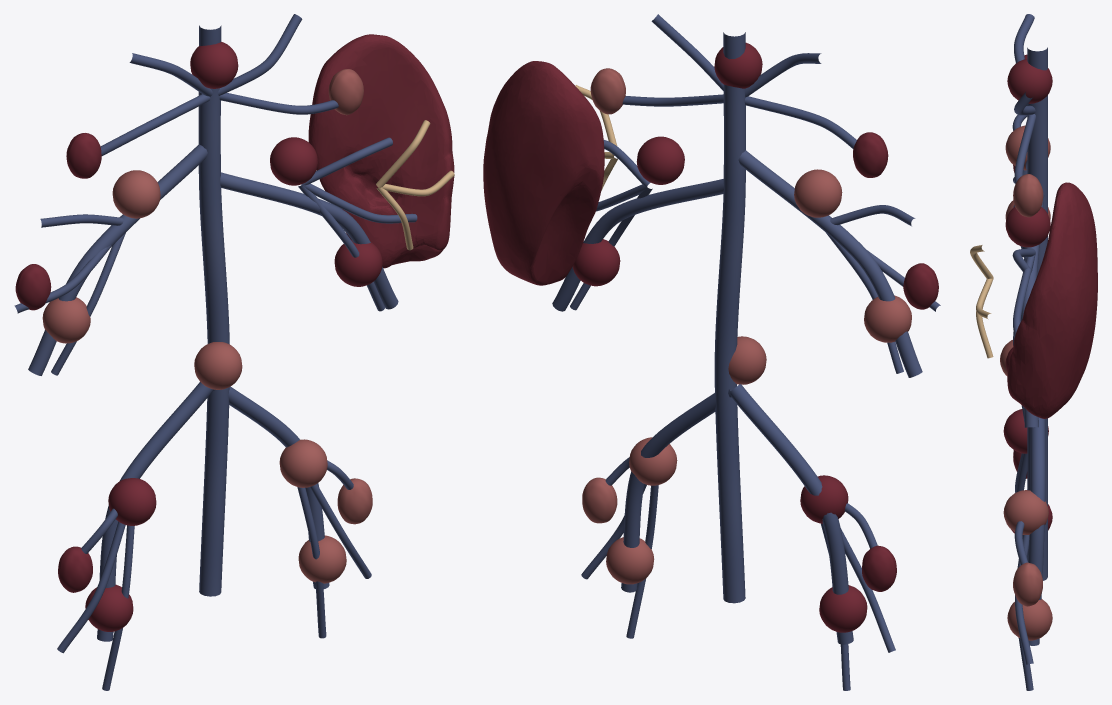
Rendered from lymphatic.1e6cb487.glb.
3 views of the same model, side by side, from view 1: azimuth 30°, elevation 25°; view 2: azimuth 150°, elevation 25°; view 3: azimuth 270°, elevation 25° (orthographic). The views are drawn at different scales.
Parts seen in each view (by area): view 1: Spleen, procedural-lymphatic-surface-1, procedural-lymphatic-surface-3, procedural-lymphatic-surface-4, procedural-lymphatic-surface-2, procedural-lymphatic-surface-5, procedural-lymphatic-surface-23, procedural-lymphatic-surface-24, procedural-lymphatic-surface-27, procedural-lymphatic-surface-29, procedural-lymphatic-surface-28, procedural-lymphatic-surface-22 (+23 smaller); view 2: Spleen, procedural-lymphatic-surface-1, procedural-lymphatic-surface-4, procedural-lymphatic-surface-2, procedural-lymphatic-surface-3, procedural-lymphatic-surface-5, procedural-lymphatic-surface-23, procedural-lymphatic-surface-24, procedural-lymphatic-surface-30, procedural-lymphatic-surface-25, procedural-lymphatic-surface-31, procedural-lymphatic-surface-26 (+17 smaller); view 3: Spleen, procedural-lymphatic-surface-1, procedural-lymphatic-surface-5, procedural-lymphatic-surface-29, procedural-lymphatic-surface-22, procedural-lymphatic-surface-24, procedural-lymphatic-surface-31, procedural-lymphatic-surface-36, procedural-lymphatic-surface-33, procedural-lymphatic-surface-28, procedural-lymphatic-surface-20, procedural-lymphatic-surface-3 (+13 smaller).
Part boxes in pixels (left/top/right/bottom): Spleen: left=308, top=34, right=454, bottom=268; procedural-lymphatic-surface-1: left=198, top=25, right=229, bottom=596; procedural-lymphatic-surface-3: left=220, top=172, right=398, bottom=309; procedural-lymphatic-surface-4: left=97, top=382, right=213, bottom=641; procedural-lymphatic-surface-2: left=28, top=144, right=207, bottom=375; procedural-lymphatic-surface-5: left=213, top=386, right=329, bottom=588; procedural-lymphatic-surface-23: left=112, top=170, right=160, bottom=218; procedural-lymphatic-surface-24: left=270, top=137, right=317, bottom=185; procedural-lymphatic-surface-27: left=194, top=342, right=242, bottom=389; procedural-lymphatic-surface-29: left=279, top=439, right=327, bottom=487; procedural-lymphatic-surface-28: left=108, top=478, right=156, bottom=525; procedural-lymphatic-surface-22: left=190, top=42, right=238, bottom=88; Spleen: left=483, top=61, right=604, bottom=285; procedural-lymphatic-surface-1: left=714, top=32, right=745, bottom=603; procedural-lymphatic-surface-4: left=730, top=384, right=853, bottom=644; procedural-lymphatic-surface-2: left=738, top=150, right=922, bottom=377; procedural-lymphatic-surface-3: left=552, top=179, right=723, bottom=311; procedural-lymphatic-surface-5: left=621, top=389, right=731, bottom=592; procedural-lymphatic-surface-23: left=794, top=169, right=842, bottom=217; procedural-lymphatic-surface-24: left=636, top=136, right=684, bottom=184; procedural-lymphatic-surface-30: left=819, top=585, right=867, bottom=632; procedural-lymphatic-surface-25: left=864, top=295, right=911, bottom=342; procedural-lymphatic-surface-31: left=606, top=537, right=654, bottom=584; procedural-lymphatic-surface-26: left=572, top=239, right=620, bottom=286; Spleen: left=1007, top=182, right=1097, bottom=418; procedural-lymphatic-surface-1: left=1027, top=47, right=1047, bottom=580; procedural-lymphatic-surface-5: left=1028, top=417, right=1045, bottom=645; procedural-lymphatic-surface-29: left=1003, top=490, right=1048, bottom=534; procedural-lymphatic-surface-22: left=1007, top=59, right=1052, bottom=103; procedural-lymphatic-surface-24: left=1005, top=207, right=1050, bottom=247; procedural-lymphatic-surface-31: left=1007, top=599, right=1052, bottom=640; procedural-lymphatic-surface-36: left=1013, top=562, right=1042, bottom=606; procedural-lymphatic-surface-33: left=1013, top=174, right=1043, bottom=217; procedural-lymphatic-surface-28: left=1003, top=409, right=1048, bottom=453; procedural-lymphatic-surface-20: left=1015, top=535, right=1033, bottom=664; procedural-lymphatic-surface-3: left=1021, top=193, right=1044, bottom=427.
Bounding box in the file's own units: 2.53 × 3.47 × 0.6781.
